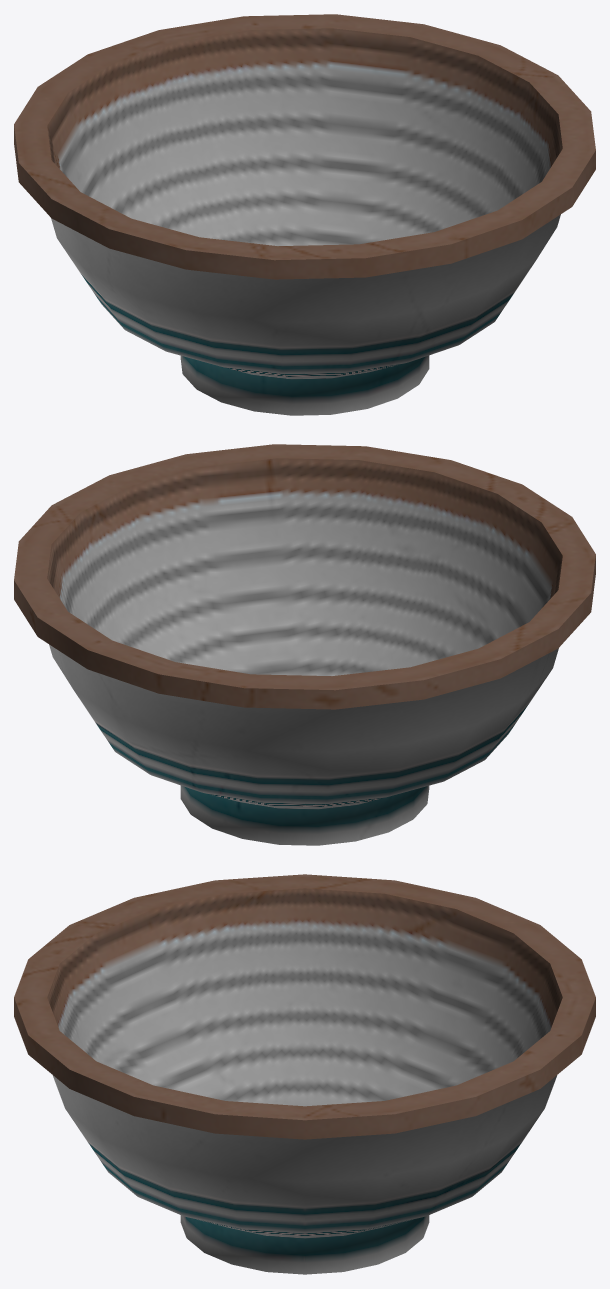
File: CP_Plate_01.fbx
3 renders of one model, top to bottom at view 1: azimuth 30°, elevation 25°; view 2: azimuth 150°, elevation 25°; view 3: azimuth 270°, elevation 25°, orthographic.
Parts seen in each view (by area): view 1: CP_Plate_01_LOD0; view 2: CP_Plate_01_LOD0; view 3: CP_Plate_01_LOD0.
Part boxes in pixels (bbox=[...]): CP_Plate_01_LOD0: bbox=[14, 14, 595, 415]; CP_Plate_01_LOD0: bbox=[14, 444, 595, 845]; CP_Plate_01_LOD0: bbox=[14, 874, 595, 1274].
Size of what is drawn, in the model's own units: 28.89 by 12.31 by 28.89.
